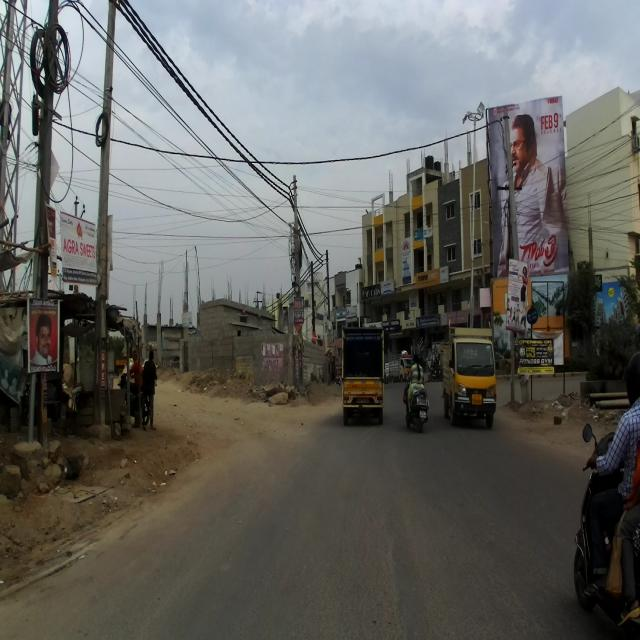car ahead at: (440, 318, 499, 422)
electric pole ahead at: (91, 0, 130, 440)
motorcycle ahead at: (401, 344, 432, 427)
truck ahead at: (335, 309, 388, 435)
